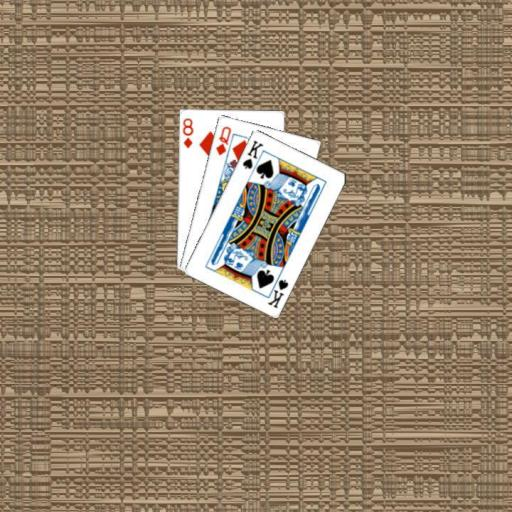8D: (179, 115, 195, 150)
KS: (264, 271, 289, 310), (239, 136, 264, 170)
QD: (213, 123, 233, 156)
